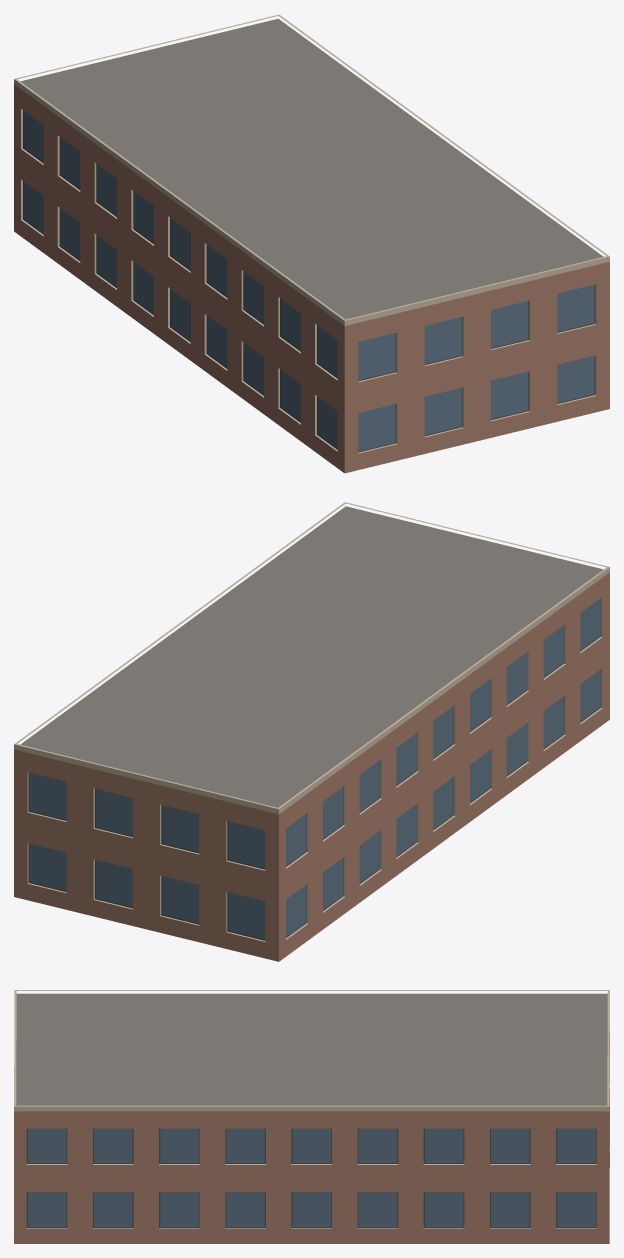
Rendered from dc-au-watkins-building.detail.glb.
The picture shows the model from 3 angles, top to bottom: view 1: azimuth 30°, elevation 25°; view 2: azimuth 150°, elevation 25°; view 3: azimuth 270°, elevation 25°; orthographic projection. The views are drawn at different scales.
Parts seen in each view (by area): view 1: Watkins Building; view 2: Watkins Building; view 3: Watkins Building.
Part boxes in pixels (<box>): Watkins Building: <box>14,14,609,473</box>; Watkins Building: <box>14,502,609,961</box>; Watkins Building: <box>14,990,609,1243</box>.
Size of the model in its own units: 17.28 by 9.5 by 37.37.
